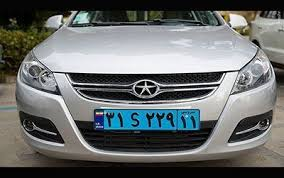car: (93, 108, 200, 131)
